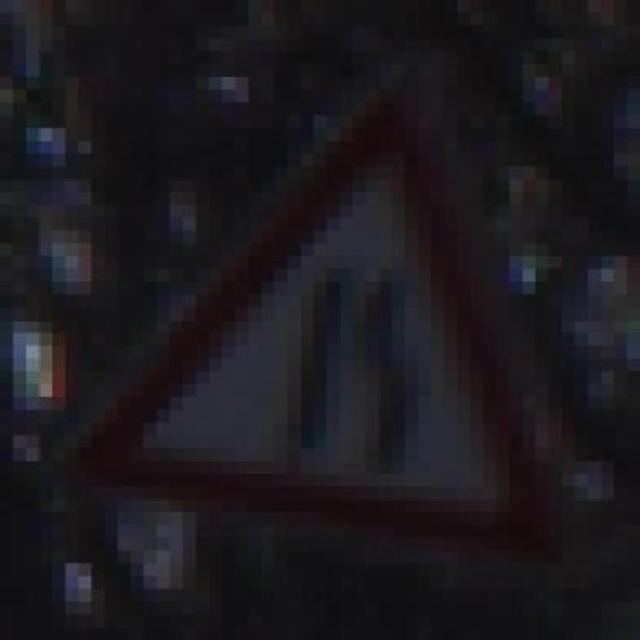-Road narrows on right: (66, 77, 574, 551)
